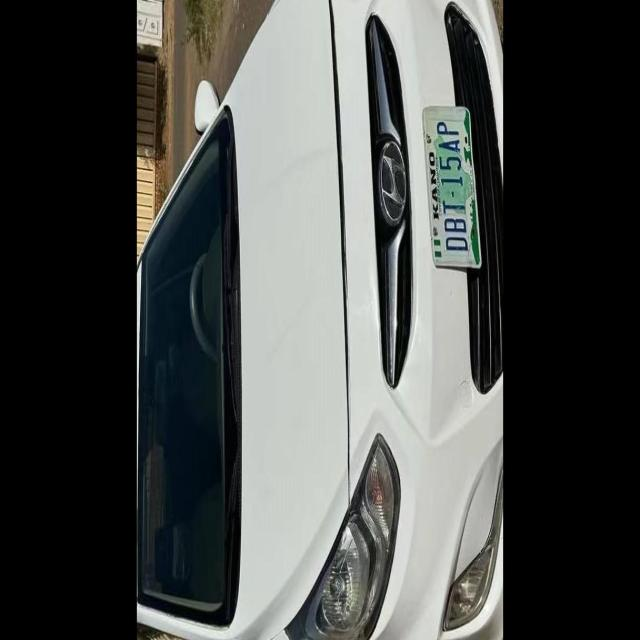Nigerian License Plate - vdataset benjamin-daria: (422, 112, 481, 270)
